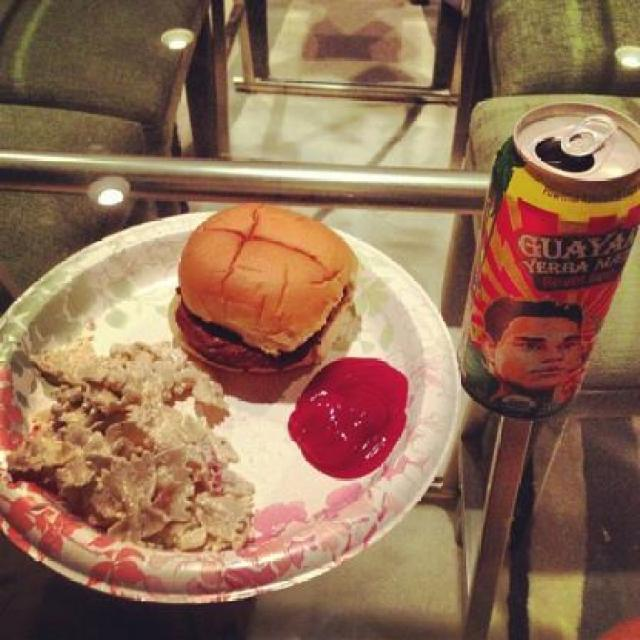Hamburger: (166, 204, 362, 373)
